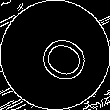O_NW: (23, 25, 87, 85)
